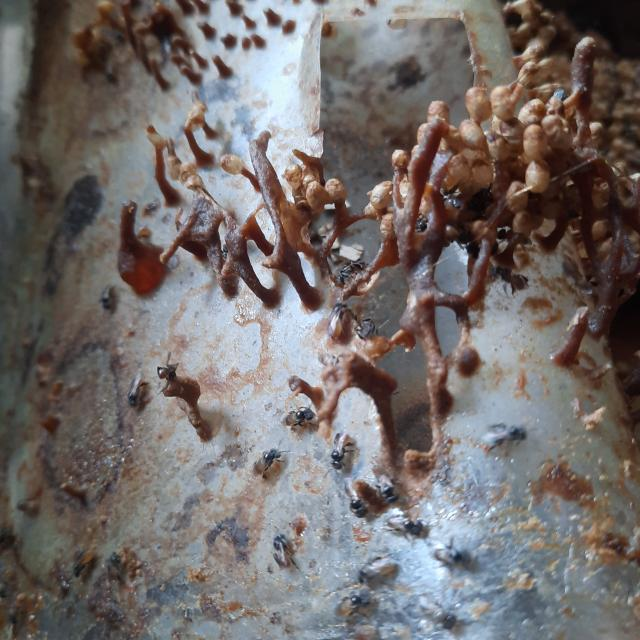honeybee: (482, 420, 528, 454), (334, 585, 367, 632), (326, 427, 358, 469), (362, 555, 399, 589), (419, 601, 453, 632), (433, 546, 472, 572), (128, 370, 150, 412), (389, 513, 419, 540), (280, 406, 314, 429), (349, 482, 369, 520), (256, 446, 278, 479), (276, 533, 293, 569), (100, 280, 121, 308), (379, 479, 399, 505)
